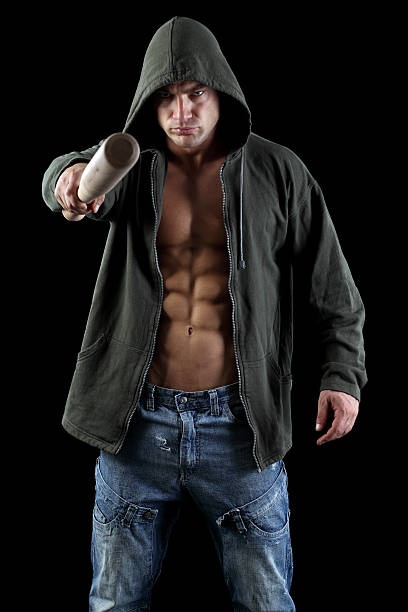bita: (61, 130, 139, 220)
